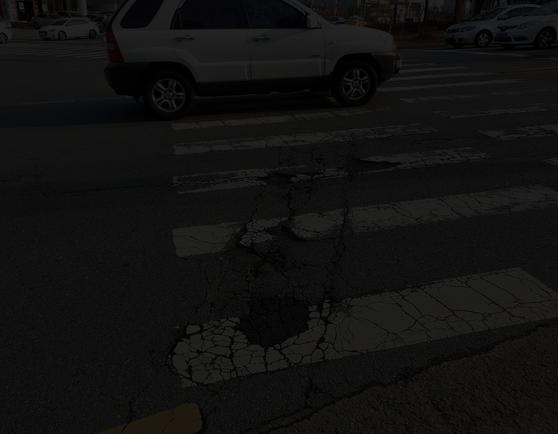pothole: (344, 151, 399, 181), (262, 165, 307, 198)
